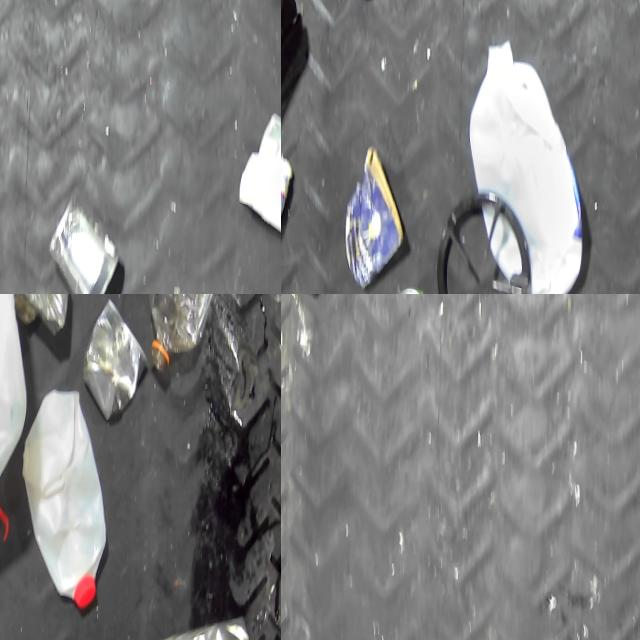can: (80, 297, 148, 423), (45, 188, 122, 294), (397, 278, 438, 294)
milk_jug: (467, 34, 589, 294), (19, 385, 110, 611)
plastic_bottle: (145, 294, 233, 375)
